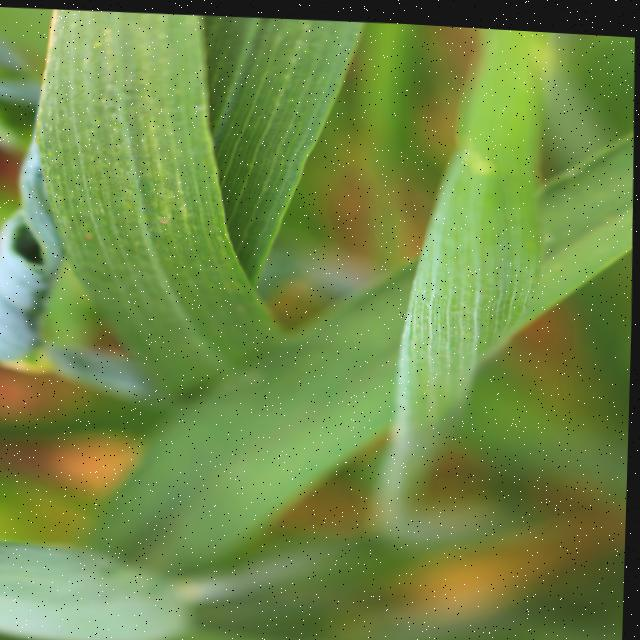healthy_wheat: (0, 0, 383, 539), (372, 18, 570, 522), (0, 521, 213, 640)
